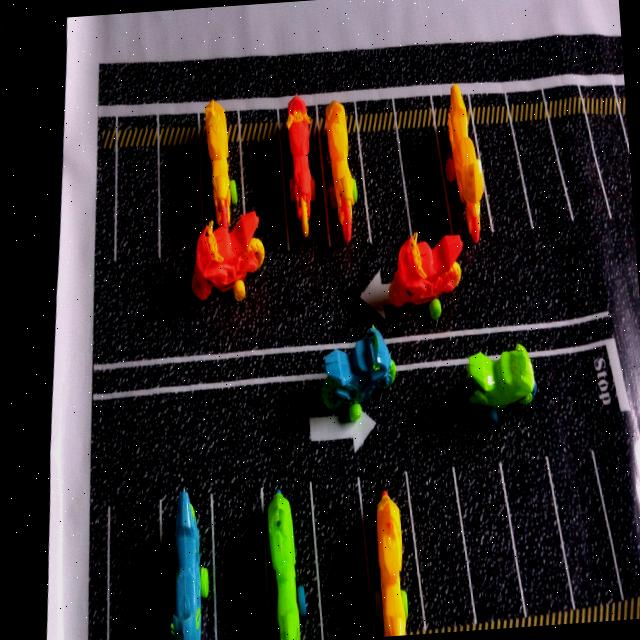bikes: (321, 326, 396, 421), (191, 211, 264, 301), (387, 232, 462, 319), (459, 343, 535, 425)
occupied: (360, 473, 424, 636), (436, 83, 493, 242), (158, 488, 216, 640), (266, 489, 322, 640), (281, 95, 327, 245), (319, 100, 367, 242), (199, 99, 242, 228)
slots: (552, 447, 620, 607), (503, 456, 571, 613), (458, 463, 523, 621), (409, 467, 472, 626), (312, 476, 371, 640), (212, 474, 270, 640), (594, 411, 640, 597), (109, 501, 161, 640), (360, 109, 408, 253), (514, 120, 571, 238), (477, 125, 530, 232), (401, 128, 449, 245), (553, 115, 606, 219), (114, 145, 158, 270), (589, 113, 634, 227), (242, 138, 287, 251), (160, 146, 201, 257)
